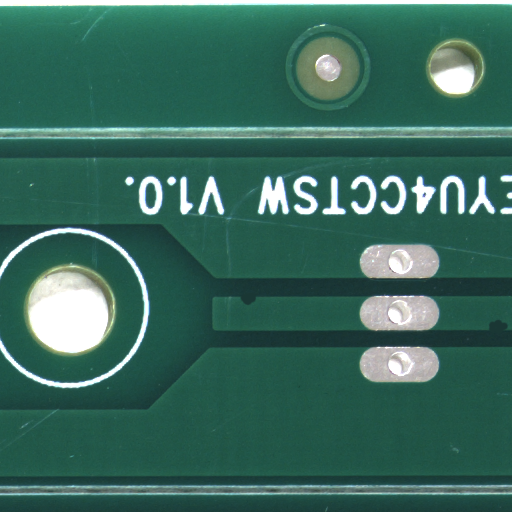Mouse_bite: (499, 325, 512, 336), (249, 301, 263, 311)
